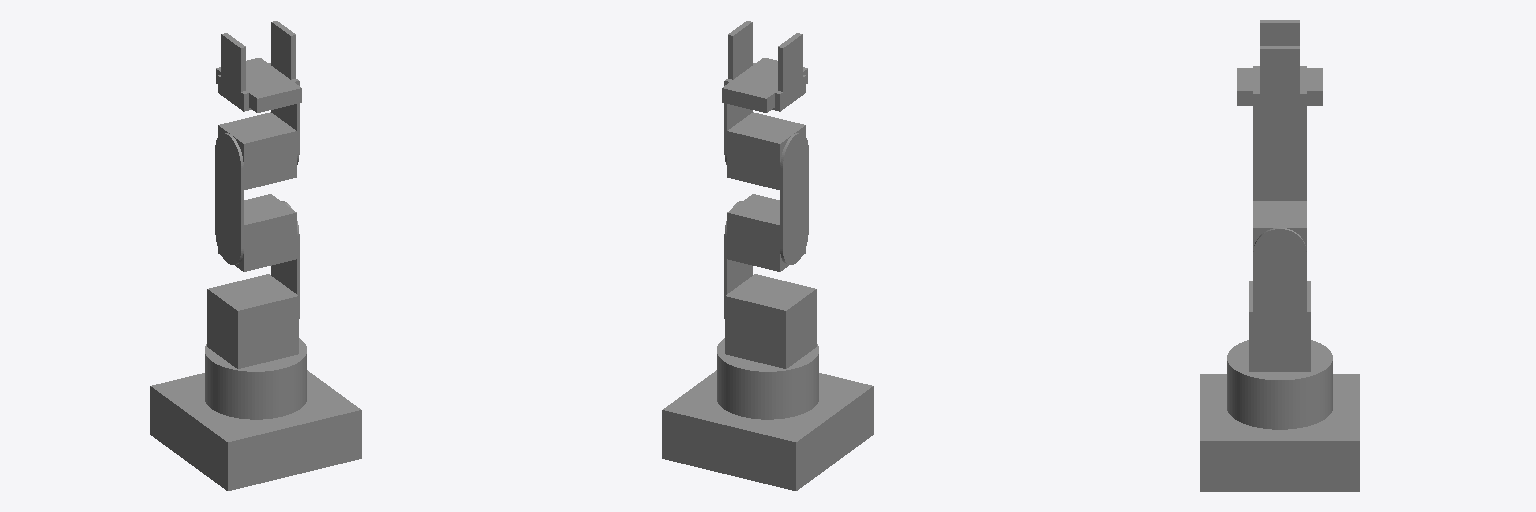
The robot description file, URDF, robot "marav2ckptbest":
<?xml version="1.0"?>
<robot name="marav2ckptbest">

  <!-- Materials -->
  <material name="Steel">
    <color rgba="0.627 0.627 0.627 1.0"/>
  </material>

  <link name="base_link">
    <inertial>
      <origin xyz="0.000000 0.000000 0.063095" rpy="0 0 0"/>
      <mass value="50.923796"/>
      <inertia ixx="2.991036e-01" ixy="0.000000e+00" ixz="-6.702413e-12"
               iyy="2.991036e-01" iyz="0.000000e+00" izz="4.060374e-01"/>
    </inertial>
    <visual>
      <origin xyz="0.000000 0.000000 0.000000" rpy="0.000000 0.000000 0.000000"/>
      <geometry>
        <mesh filename="package://marav2ckptbest_description/meshes/marav2ckptbest/base_link.dae" scale="1 1 1"/>
      </geometry>
      <material name="Steel"/>
    </visual>
    <collision>
      <origin xyz="0.000000 0.000000 0.000000" rpy="0.000000 0.000000 0.000000"/>
      <geometry>
        <mesh filename="package://marav2ckptbest_description/meshes/marav2ckptbest/base_link.dae" scale="1 1 1"/>
      </geometry>
    </collision>
  </link>

  <link name="shoulder_link">
    <inertial>
      <origin xyz="-0.005000 0.000000 0.050000" rpy="0 0 0"/>
      <mass value="8.116900"/>
      <inertia ixx="1.274083e-02" ixy="0.000000e+00" ixz="0.000000e+00"
               iyy="1.494862e-02" iyz="0.000000e+00" izz="1.416128e-02"/>
    </inertial>
    <visual>
      <origin xyz="0.000000 0.000000 -0.166000" rpy="0.000000 0.000000 0.000000"/>
      <geometry>
        <mesh filename="package://marav2ckptbest_description/meshes/marav2ckptbest/shoulder_link.dae" scale="1 1 1"/>
      </geometry>
      <material name="Steel"/>
    </visual>
    <collision>
      <origin xyz="0.000000 0.000000 -0.166000" rpy="0.000000 0.000000 0.000000"/>
      <geometry>
        <mesh filename="package://marav2ckptbest_description/meshes/marav2ckptbest/shoulder_link.dae" scale="1 1 1"/>
      </geometry>
    </collision>
  </link>

  <link name="shoulder_arm">
    <inertial>
      <origin xyz="0.000000 0.070000 0.002500" rpy="0 0 0"/>
      <mass value="0.636892"/>
      <inertia ixx="2.233895e-03" ixy="0.000000e+00" ixz="0.000000e+00"
               iyy="3.146970e-04" iyz="0.000000e+00" izz="2.545938e-03"/>
    </inertial>
    <visual>
      <origin xyz="0.000000 -0.226000 -0.050000" rpy="-1.570796 -1.570796 0.000000"/>
      <geometry>
        <mesh filename="package://marav2ckptbest_description/meshes/marav2ckptbest/shoulder_arm.dae" scale="1 1 1"/>
      </geometry>
      <material name="Steel"/>
    </visual>
    <collision>
      <origin xyz="0.000000 -0.226000 -0.050000" rpy="-1.570796 -1.570796 0.000000"/>
      <geometry>
        <mesh filename="package://marav2ckptbest_description/meshes/marav2ckptbest/shoulder_arm.dae" scale="1 1 1"/>
      </geometry>
    </collision>
  </link>

  <link name="elbow_link">
    <inertial>
      <origin xyz="0.002500 0.000000 0.366000" rpy="0 0 0"/>
      <mass value="4.772800"/>
      <inertia ixx="5.090987e-03" ixy="0.000000e+00" ixz="0.000000e+00"
               iyy="6.135037e-03" iyz="0.000000e+00" izz="6.135037e-03"/>
    </inertial>
    <visual>
      <origin xyz="0.000000 0.000000 0.000000" rpy="0.000000 0.000000 0.000000"/>
      <geometry>
        <mesh filename="package://marav2ckptbest_description/meshes/marav2ckptbest/elbow_link.dae" scale="1 1 1"/>
      </geometry>
      <material name="Steel"/>
    </visual>
    <collision>
      <origin xyz="0.000000 0.000000 0.000000" rpy="0.000000 0.000000 0.000000"/>
      <geometry>
        <mesh filename="package://marav2ckptbest_description/meshes/marav2ckptbest/elbow_link.dae" scale="1 1 1"/>
      </geometry>
    </collision>
  </link>

  <link name="elbow_arm">
    <inertial>
      <origin xyz="0.000000 -0.070000 0.002500" rpy="0 0 0"/>
      <mass value="0.636892"/>
      <inertia ixx="2.233895e-03" ixy="0.000000e+00" ixz="0.000000e+00"
               iyy="3.146970e-04" iyz="0.000000e+00" izz="2.545938e-03"/>
    </inertial>
    <visual>
      <origin xyz="0.000000 0.366000 -0.045000" rpy="1.570796 1.570796 0.000000"/>
      <geometry>
        <mesh filename="package://marav2ckptbest_description/meshes/marav2ckptbest/elbow_arm.dae" scale="1 1 1"/>
      </geometry>
      <material name="Steel"/>
    </visual>
    <collision>
      <origin xyz="0.000000 0.366000 -0.045000" rpy="1.570796 1.570796 0.000000"/>
      <geometry>
        <mesh filename="package://marav2ckptbest_description/meshes/marav2ckptbest/elbow_arm.dae" scale="1 1 1"/>
      </geometry>
    </collision>
  </link>

  <link name="wrist_link">
    <inertial>
      <origin xyz="0.002500 0.000000 0.506000" rpy="0 0 0"/>
      <mass value="4.772800"/>
      <inertia ixx="5.090987e-03" ixy="0.000000e+00" ixz="0.000000e+00"
               iyy="6.135037e-03" iyz="0.000000e+00" izz="6.135037e-03"/>
    </inertial>
    <visual>
      <origin xyz="0.000000 0.000000 0.000000" rpy="0.000000 0.000000 0.000000"/>
      <geometry>
        <mesh filename="package://marav2ckptbest_description/meshes/marav2ckptbest/wrist_link.dae" scale="1 1 1"/>
      </geometry>
      <material name="Steel"/>
    </visual>
    <collision>
      <origin xyz="0.000000 0.000000 0.000000" rpy="0.000000 0.000000 0.000000"/>
      <geometry>
        <mesh filename="package://marav2ckptbest_description/meshes/marav2ckptbest/wrist_link.dae" scale="1 1 1"/>
      </geometry>
    </collision>
  </link>

  <link name="wrist_arm">
    <inertial>
      <origin xyz="0.000000 0.100474 -0.038850" rpy="0 0 0"/>
      <mass value="3.065946"/>
      <inertia ixx="5.669090e-03" ixy="0.000000e+00" ixz="0.000000e+00"
               iyy="6.177043e-03" iyz="1.300933e-03" izz="6.307835e-03"/>
    </inertial>
    <visual>
      <origin xyz="0.000000 -0.506000 -0.050000" rpy="-1.570796 -1.570796 0.000000"/>
      <geometry>
        <mesh filename="package://marav2ckptbest_description/meshes/marav2ckptbest/wrist_arm.dae" scale="1 1 1"/>
      </geometry>
      <material name="Steel"/>
    </visual>
    <collision>
      <origin xyz="0.000000 -0.506000 -0.050000" rpy="-1.570796 -1.570796 0.000000"/>
      <geometry>
        <mesh filename="package://marav2ckptbest_description/meshes/marav2ckptbest/wrist_arm.dae" scale="1 1 1"/>
      </geometry>
    </collision>
  </link>

  <link name="gripper_teeth">
    <inertial>
      <origin xyz="0.000000 0.000000 0.037500" rpy="0 0 0"/>
      <mass value="0.353250"/>
      <inertia ixx="2.715609e-04" ixy="0.000000e+00" ixz="0.000000e+00"
               iyy="1.685297e-04" iyz="0.000000e+00" izz="1.089188e-04"/>
    </inertial>
    <visual>
      <origin xyz="0.040000 0.000000 -0.631000" rpy="0.000000 0.000000 0.000000"/>
      <geometry>
        <mesh filename="package://marav2ckptbest_description/meshes/marav2ckptbest/gripper_teeth.dae" scale="1 1 1"/>
      </geometry>
      <material name="Steel"/>
    </visual>
    <collision>
      <origin xyz="0.040000 0.000000 -0.631000" rpy="0.000000 0.000000 0.000000"/>
      <geometry>
        <mesh filename="package://marav2ckptbest_description/meshes/marav2ckptbest/gripper_teeth.dae" scale="1 1 1"/>
      </geometry>
    </collision>
  </link>

  <link name="gripper_teeth2">
    <inertial>
      <origin xyz="0.000000 0.000000 0.037500" rpy="0 0 0"/>
      <mass value="0.353250"/>
      <inertia ixx="2.715609e-04" ixy="0.000000e+00" ixz="0.000000e+00"
               iyy="1.685297e-04" iyz="0.000000e+00" izz="1.089187e-04"/>
    </inertial>
    <visual>
      <origin xyz="-0.050000 0.000000 -0.631000" rpy="0.000000 0.000000 0.000000"/>
      <geometry>
        <mesh filename="package://marav2ckptbest_description/meshes/marav2ckptbest/gripper_teeth2.dae" scale="1 1 1"/>
      </geometry>
      <material name="Steel"/>
    </visual>
    <collision>
      <origin xyz="-0.050000 0.000000 -0.631000" rpy="0.000000 0.000000 0.000000"/>
      <geometry>
        <mesh filename="package://marav2ckptbest_description/meshes/marav2ckptbest/gripper_teeth2.dae" scale="1 1 1"/>
      </geometry>
    </collision>
  </link>

  <joint name="Revolute_1" type="revolute">
    <parent link="base_link"/>
    <child link="shoulder_link"/>
    <origin xyz="0.000000 0.000000 0.166000" rpy="0.000000 0.000000 0.000000"/>
    <axis xyz="0.000000 0.000000 1.000000"/>
    <limit lower="-1.570796" upper="1.570796" effort="100.0" velocity="1.00"/>
  </joint>

  <joint name="Revolute_5" type="revolute">
    <parent link="shoulder_link"/>
    <child link="shoulder_arm"/>
    <origin xyz="0.050000 0.000000 0.060000" rpy="1.570796 0.000000 1.570796"/>
    <axis xyz="0.000000 0.000000 1.000000"/>
    <limit lower="-1.570796" upper="1.570796" effort="100.0" velocity="1.00"/>
  </joint>

  <joint name="Rigid_6" type="fixed">
    <parent link="shoulder_arm"/>
    <child link="elbow_link"/>
    <origin xyz="0.000000 -0.226000 -0.050000" rpy="-1.570796 -1.570796 0.000000"/>
  </joint>

  <joint name="Revolute_7" type="revolute">
    <parent link="elbow_link"/>
    <child link="elbow_arm"/>
    <origin xyz="-0.045000 0.000000 0.366000" rpy="-1.570796 0.000000 1.570796"/>
    <axis xyz="0.000000 0.000000 1.000000"/>
    <limit lower="-1.570796" upper="1.570796" effort="100.0" velocity="1.00"/>
  </joint>

  <joint name="Rigid_8" type="fixed">
    <parent link="elbow_arm"/>
    <child link="wrist_link"/>
    <origin xyz="0.000000 0.366000 -0.045000" rpy="1.570796 1.570796 0.000000"/>
  </joint>

  <joint name="Revolute_9" type="revolute">
    <parent link="wrist_link"/>
    <child link="wrist_arm"/>
    <origin xyz="0.050000 0.000000 0.506000" rpy="1.570796 0.000000 1.570796"/>
    <axis xyz="0.000000 0.000000 1.000000"/>
    <limit lower="-1.570796" upper="1.570796" effort="100.0" velocity="1.00"/>
  </joint>

  <joint name="Slider_10" type="prismatic">
    <parent link="wrist_arm"/>
    <child link="gripper_teeth"/>
    <origin xyz="0.000000 0.125000 -0.090000" rpy="-1.570796 -1.570796 0.000000"/>
    <axis xyz="1.000000 0.000000 0.000000"/>
    <limit lower="0.000000" upper="0.040000" effort="100.0" velocity="1.00"/>
  </joint>

  <joint name="Slider_11" type="prismatic">
    <parent link="wrist_arm"/>
    <child link="gripper_teeth2"/>
    <origin xyz="0.000000 0.125000 0.000000" rpy="-1.570796 -1.570796 0.000000"/>
    <axis xyz="1.000000 0.000000 0.000000"/>
    <limit lower="-0.040000" upper="0.000000" effort="100.0" velocity="1.00"/>
  </joint>

  <!-- ROS 2 control: generated generic system -->
  <ros2_control name="marav2ckptbest_system" type="system">
    <hardware>
      <plugin>mock_components/GenericSystem</plugin>
      <param name="cmd_topic">sim/marav2ckptbest_system/cmd</param>
      <param name="state_topic">sim/marav2ckptbest_system/state</param>
    </hardware>

    <joint name="Revolute_1">
      <command_interface name="position"/>
      <command_interface name="velocity"/>
      <state_interface name="position">
        <param name="initial_value">0.0</param>
      </state_interface>
      <state_interface name="velocity"/>
      <state_interface name="effort"/>
    </joint>
    <joint name="Revolute_5">
      <command_interface name="position"/>
      <command_interface name="velocity"/>
      <state_interface name="position">
        <param name="initial_value">0.0</param>
      </state_interface>
      <state_interface name="velocity"/>
      <state_interface name="effort"/>
    </joint>
    <joint name="Revolute_7">
      <command_interface name="position"/>
      <command_interface name="velocity"/>
      <state_interface name="position">
        <param name="initial_value">0.0</param>
      </state_interface>
      <state_interface name="velocity"/>
      <state_interface name="effort"/>
    </joint>
    <joint name="Revolute_9">
      <command_interface name="position"/>
      <command_interface name="velocity"/>
      <state_interface name="position">
        <param name="initial_value">0.0</param>
      </state_interface>
      <state_interface name="velocity"/>
      <state_interface name="effort"/>
    </joint>
    <joint name="Slider_10">
      <command_interface name="position"/>
      <command_interface name="velocity"/>
      <state_interface name="position">
        <param name="initial_value">0.0</param>
      </state_interface>
      <state_interface name="velocity"/>
      <state_interface name="effort"/>
    </joint>
    <joint name="Slider_11">
      <command_interface name="position"/>
      <command_interface name="velocity"/>
      <state_interface name="position">
        <param name="initial_value">0.0</param>
      </state_interface>
      <state_interface name="velocity"/>
      <state_interface name="effort"/>
    </joint>
  </ros2_control>

</robot>

--- Facts derived from the render (not from the file) ---
3 views of the same robot in one strip: view 1: azimuth 30°, elevation 25°; view 2: azimuth 150°, elevation 25°; view 3: azimuth 270°, elevation 25° (orthographic).
Robot: marav2ckptbest — 9 links, 8 joints (4 revolute, 2 prismatic, 2 fixed); root link base_link; default pose: all joints at 0.
Links seen in each view (by area): view 1: base_link, shoulder_link, wrist_link, elbow_link, elbow_arm, wrist_arm, gripper_teeth, gripper_teeth2, shoulder_arm; view 2: base_link, shoulder_link, wrist_link, elbow_link, elbow_arm, wrist_arm, gripper_teeth, gripper_teeth2, shoulder_arm; view 3: base_link, wrist_arm, shoulder_arm, gripper_teeth2, elbow_link, shoulder_link, gripper_teeth.
Link boxes in pixels (x1,y1,x2,y2): base_link: (150, 338, 361, 490); shoulder_link: (207, 274, 298, 368); wrist_link: (218, 112, 296, 189); elbow_link: (218, 194, 296, 271); elbow_arm: (215, 133, 243, 264); wrist_arm: (216, 58, 301, 164); gripper_teeth: (221, 33, 245, 91); gripper_teeth2: (271, 21, 295, 79); shoulder_arm: (271, 201, 299, 318); base_link: (662, 338, 873, 490); shoulder_link: (725, 274, 816, 368); wrist_link: (727, 112, 805, 189); elbow_link: (727, 194, 805, 271); elbow_arm: (780, 133, 808, 264); wrist_arm: (722, 58, 807, 164); gripper_teeth: (778, 33, 802, 91); gripper_teeth2: (728, 21, 752, 79); shoulder_arm: (724, 201, 752, 318); base_link: (1200, 340, 1359, 491); wrist_arm: (1237, 66, 1322, 192); shoulder_arm: (1253, 228, 1306, 360); gripper_teeth2: (1260, 46, 1299, 93); elbow_link: (1253, 201, 1306, 250); shoulder_link: (1249, 281, 1310, 371); gripper_teeth: (1260, 20, 1299, 45).
Bounding box of the posed robot: 0.24 × 0.24 × 0.706 m (x, y, z).
9 mesh visuals loaded from 9 distinct referenced files (9 Collada DAE).
